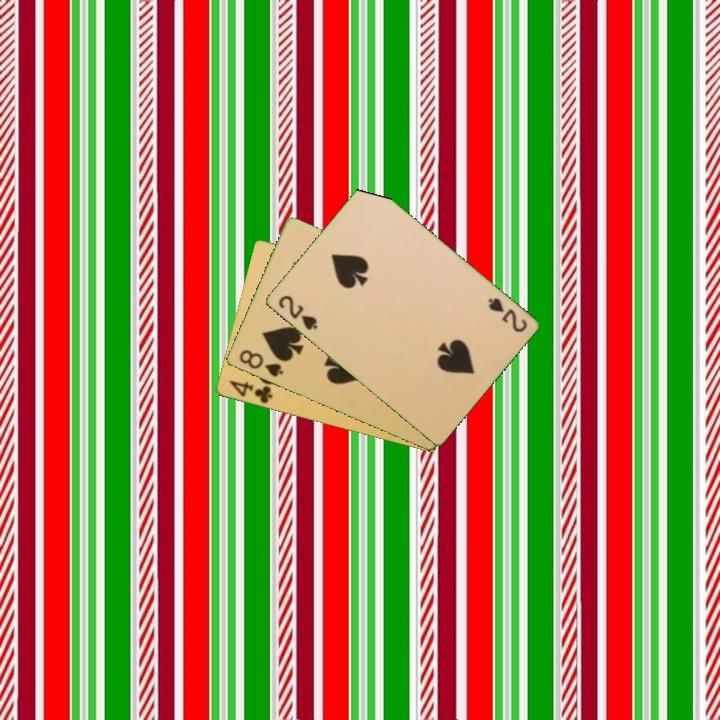2s: (484, 294, 530, 335), (275, 292, 320, 333)
4c: (225, 377, 275, 407)
8s: (235, 346, 286, 380)
